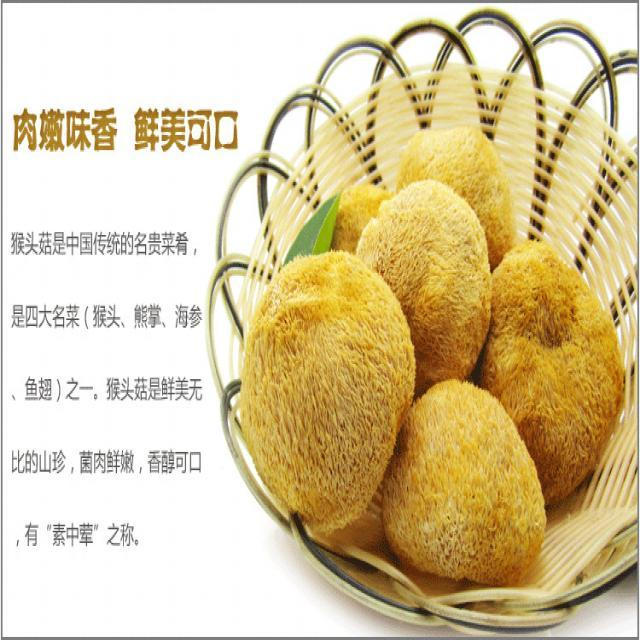Hericium erinaceus: (240, 250, 415, 531), (485, 240, 629, 504), (384, 380, 546, 582), (354, 177, 492, 383), (400, 127, 514, 274)
